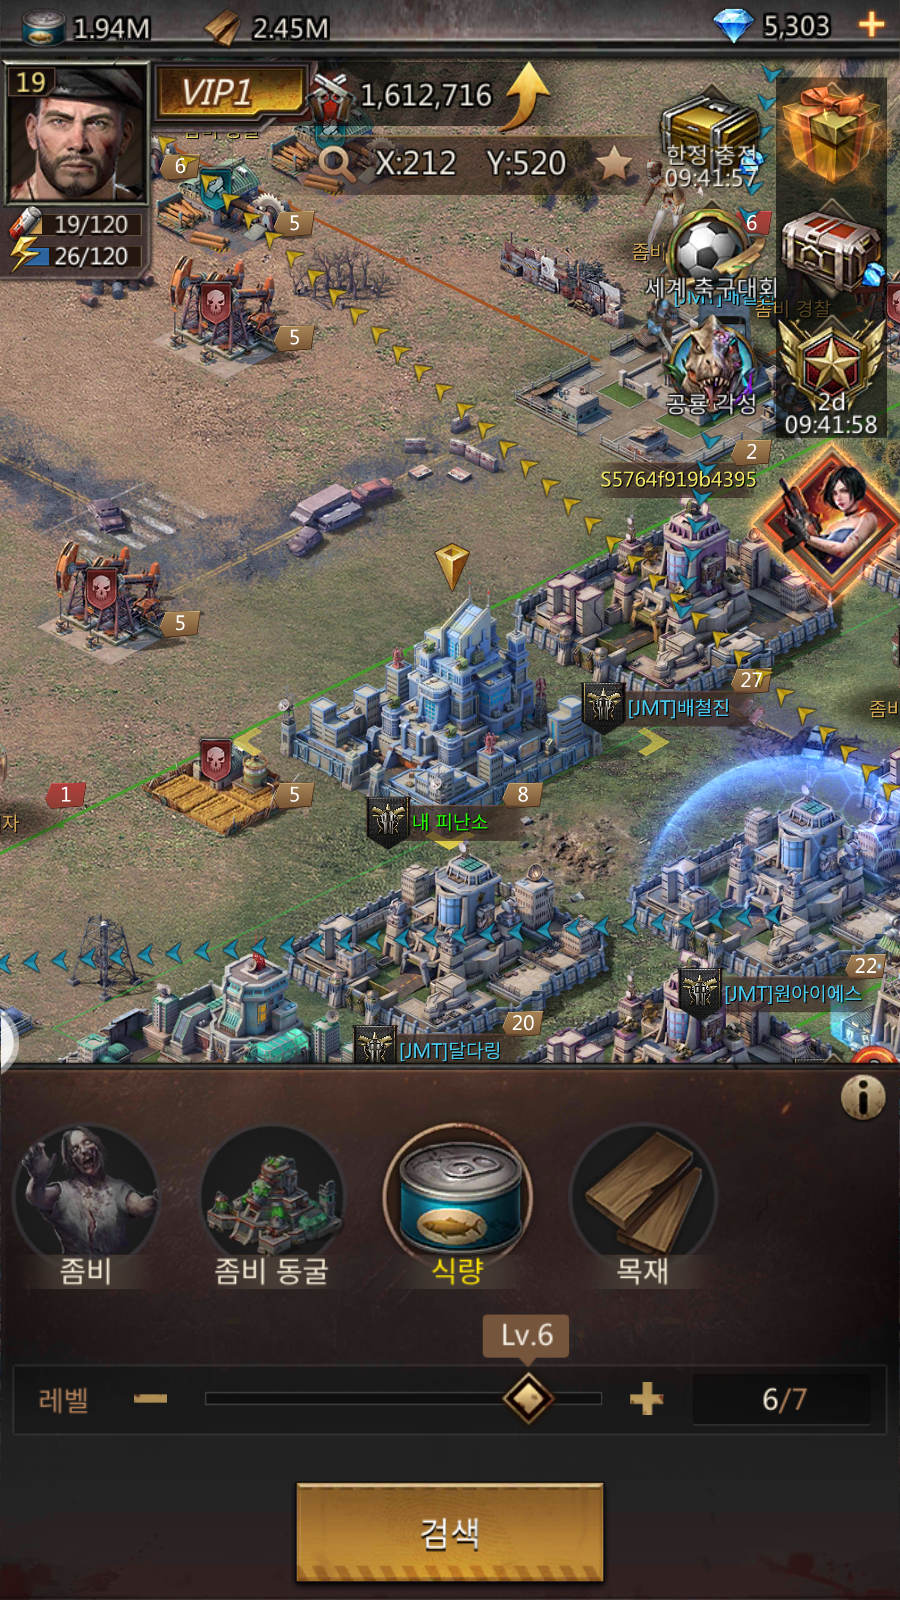rss_food_in_panel: (380, 1119, 534, 1291)
rss_lv6: (478, 1315, 570, 1354)
rss_minus_in_panel: (124, 1364, 185, 1425)
rss_plus_in_panel: (614, 1371, 673, 1424)
rss_search_in_panel: (295, 1481, 607, 1585)
rss_wood_in_panel: (571, 1122, 717, 1293)
